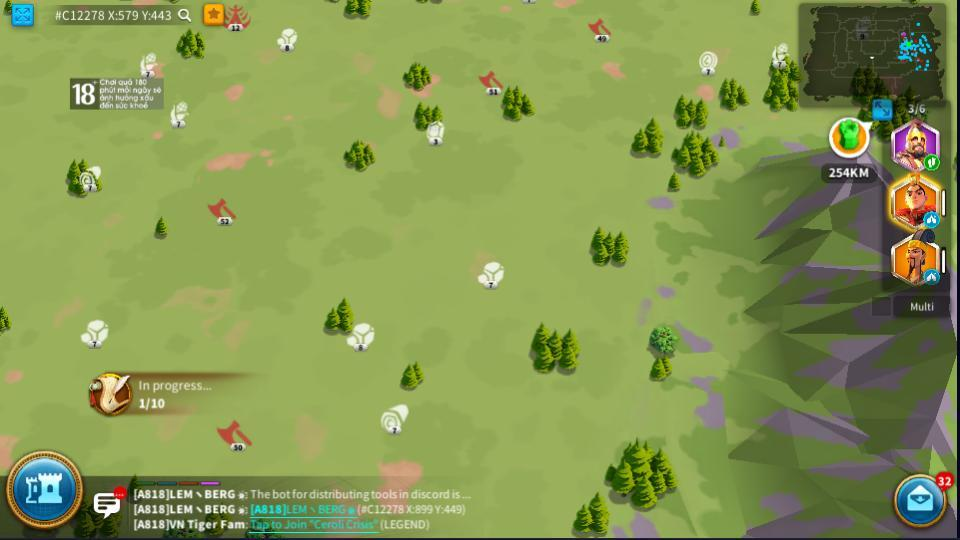gem-z-out: (140, 51, 158, 64)
march_idle: (923, 271, 939, 283), (923, 213, 938, 225)
march_marching: (923, 156, 938, 169)
